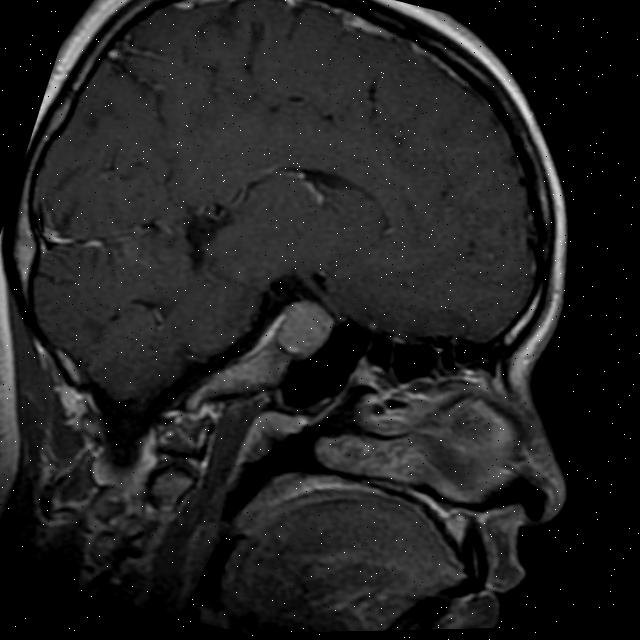Pituitary: (270, 294, 339, 364)
